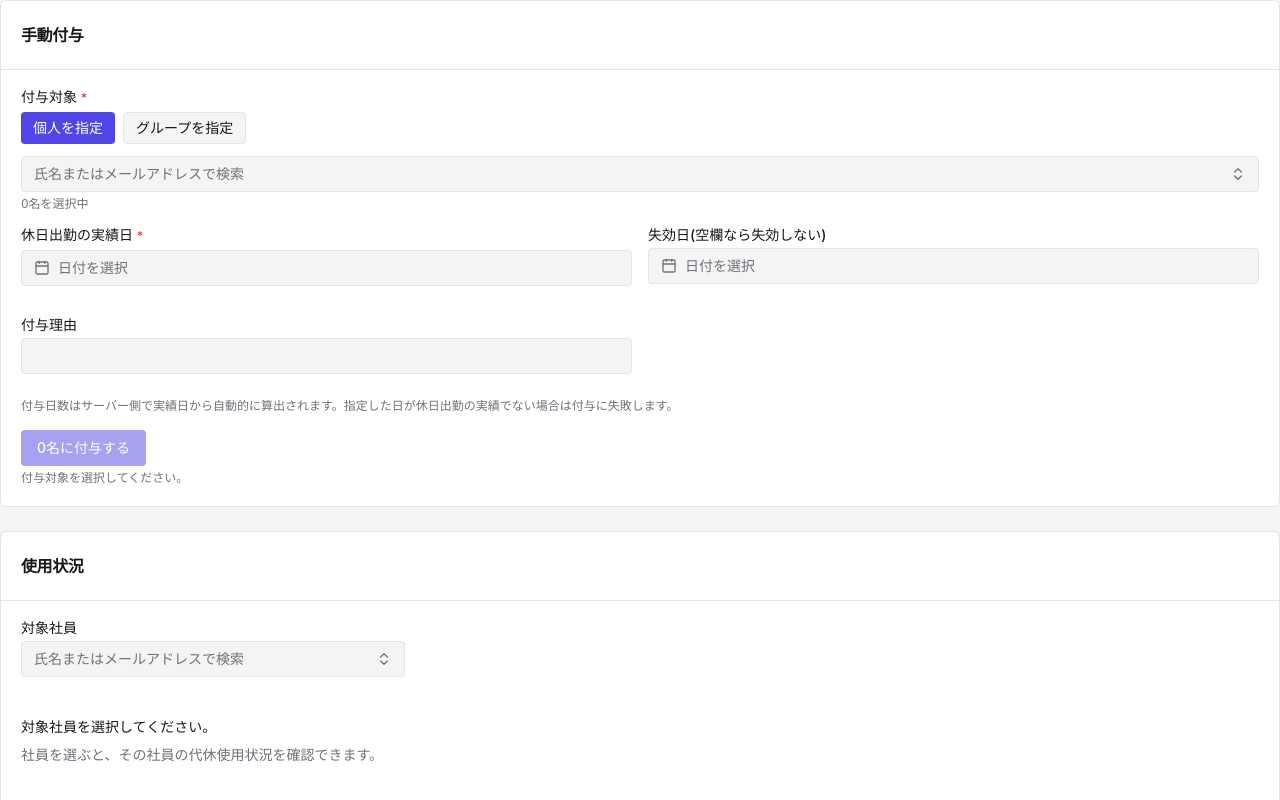
Scenario: CompensatoryLeaveAdminPage › grant list buttons of the target user › shows no buttons for a cancelled grant
The width and height of the screenshot is (1280, 800).
Click the dropdown named "付与対象".
click(139, 174)  # box [21,156,1259,192]
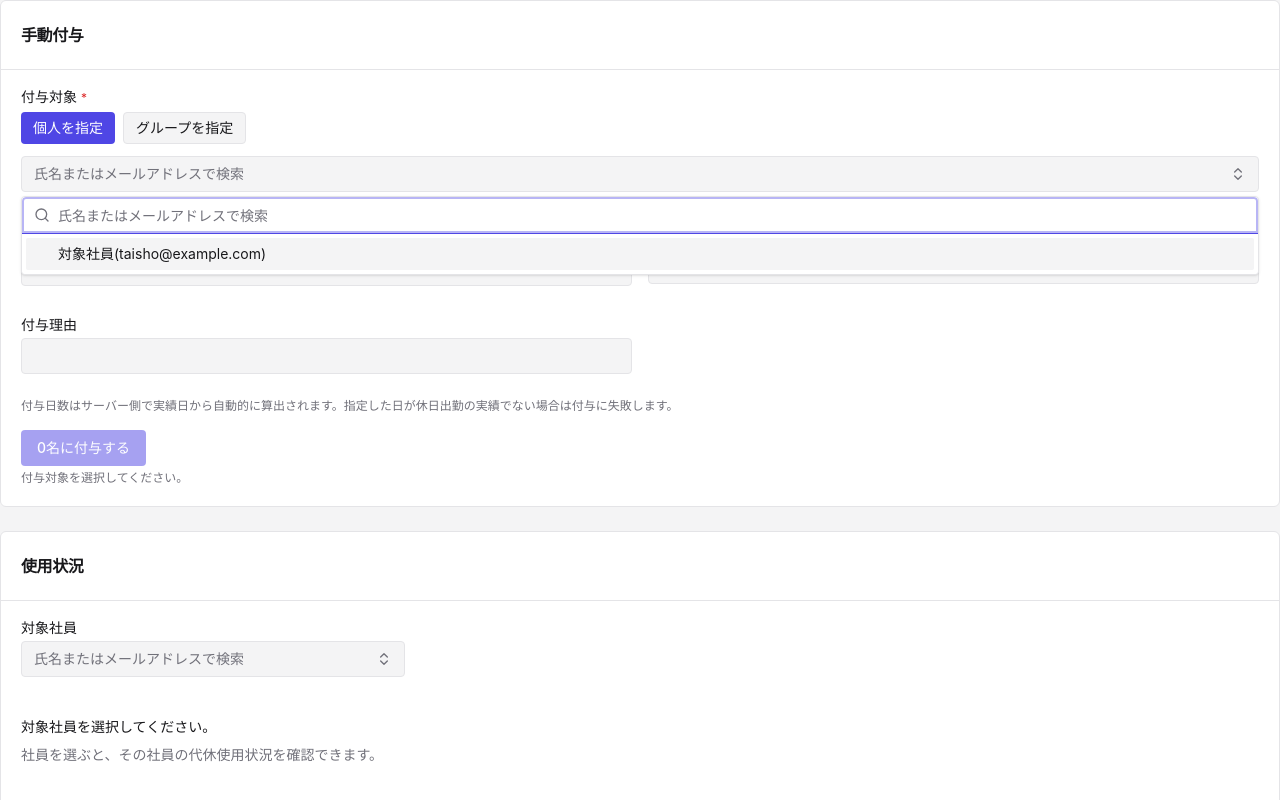
Type "対象" into the 2nd dropdown with placeholder "氏名またはメールアドレスで検索".
click(652, 215); type("対象")  # box [58,197,1246,233]
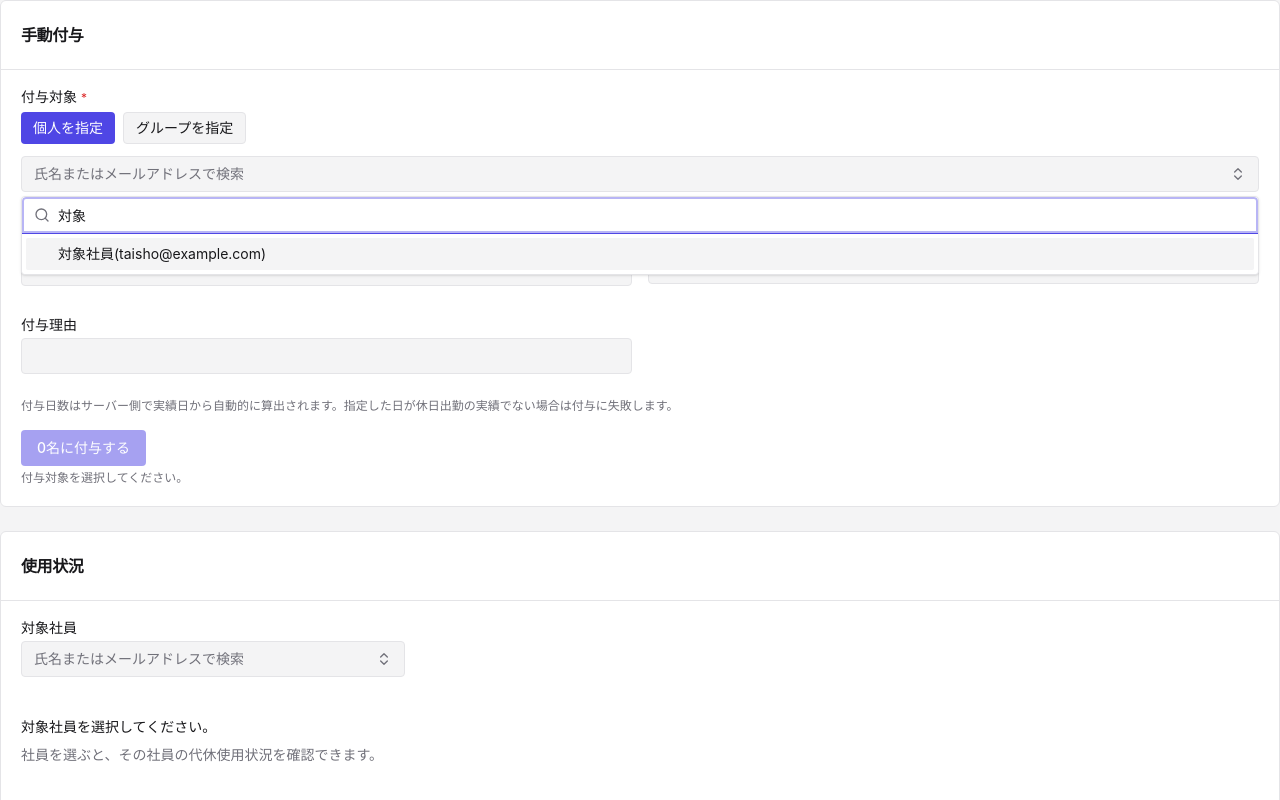
Click the option "対象社員(taisho@example.com)".
click(86, 254)  # box [26,238,1254,270]
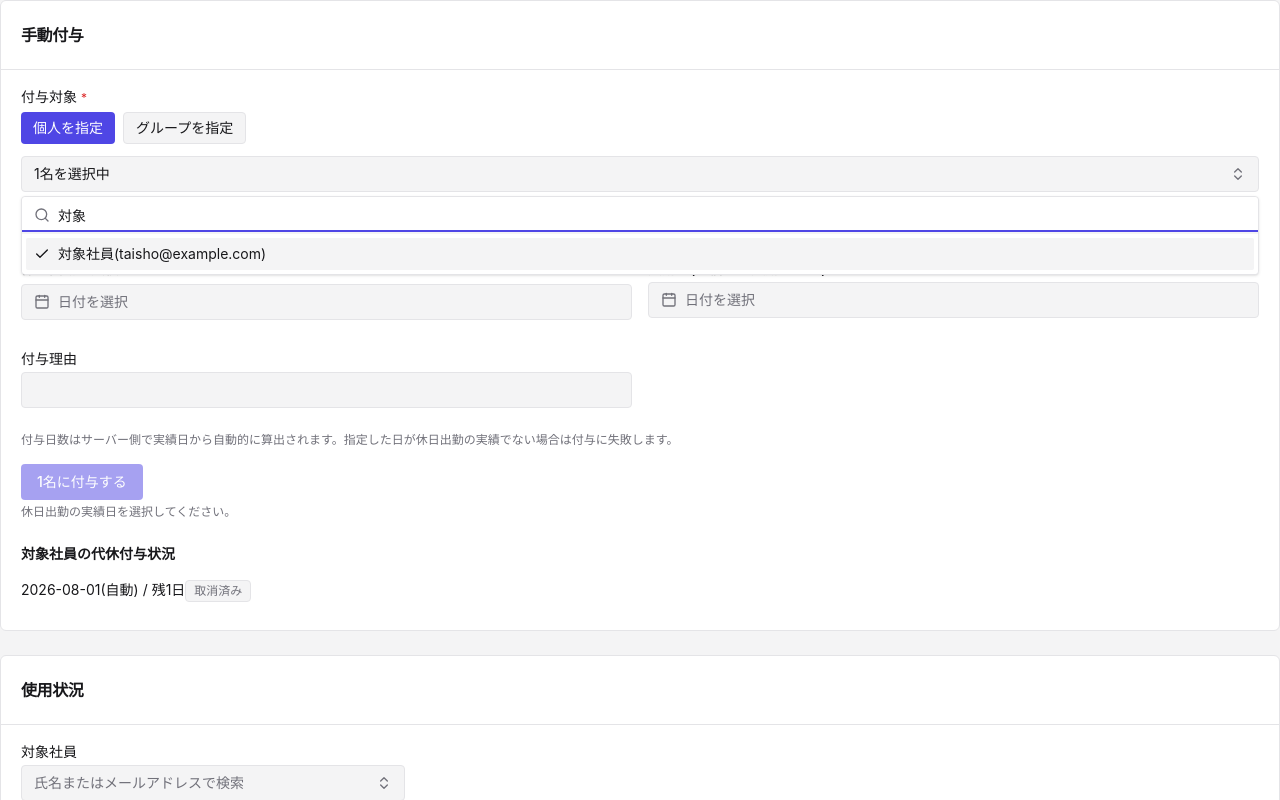
Check: the text "取消済み" is shown, box [185,580,251,602]
